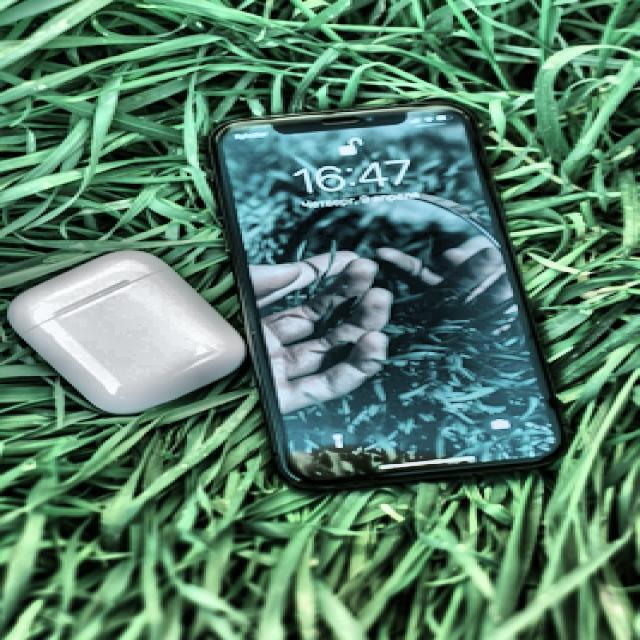Phone: (206, 101, 568, 493)
